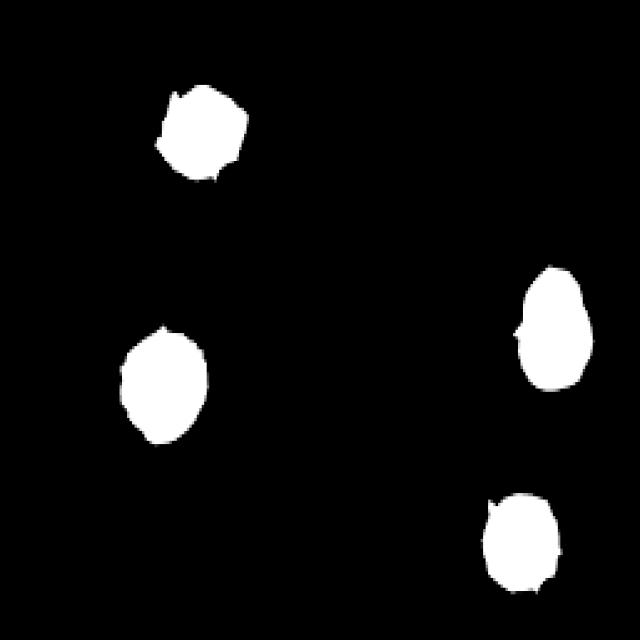cell: (120, 338, 211, 444), (154, 85, 249, 176), (520, 267, 590, 389), (484, 497, 559, 592)
